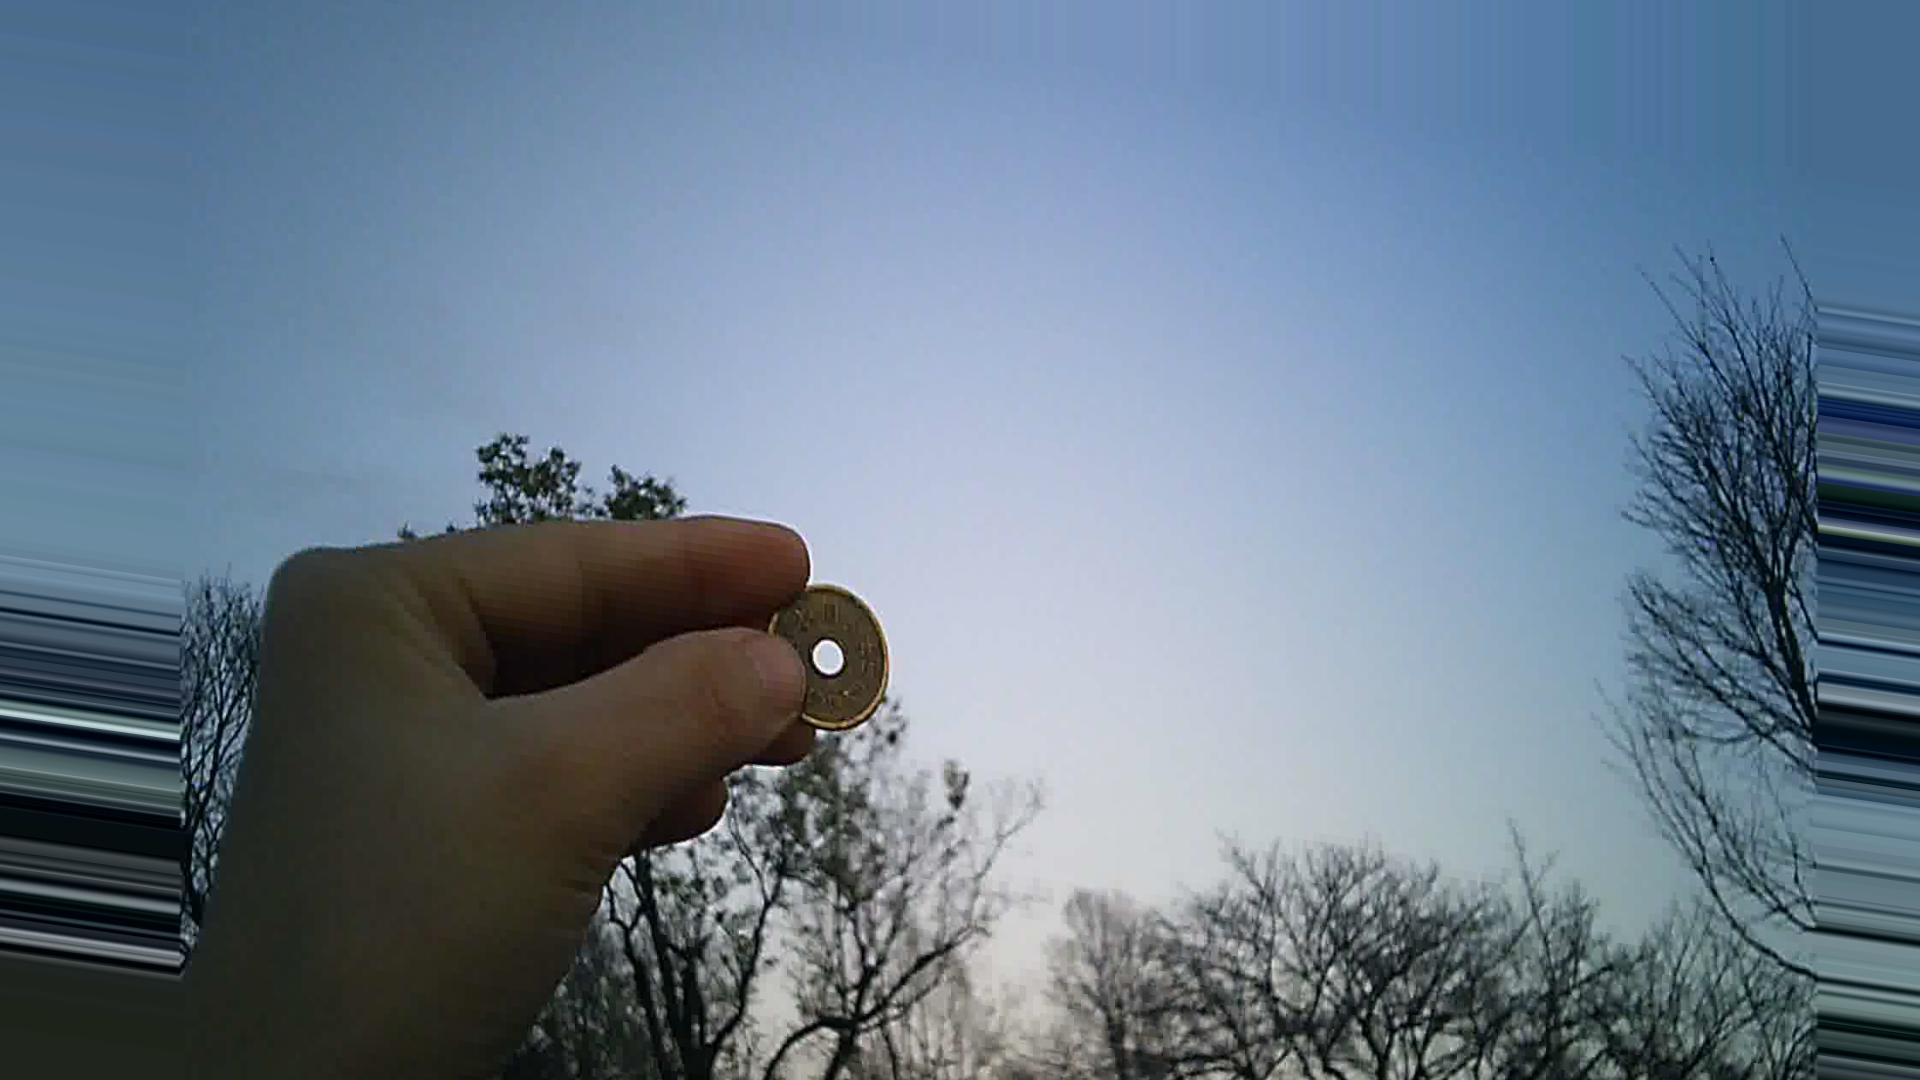5 Yen: (753, 578, 885, 731)
